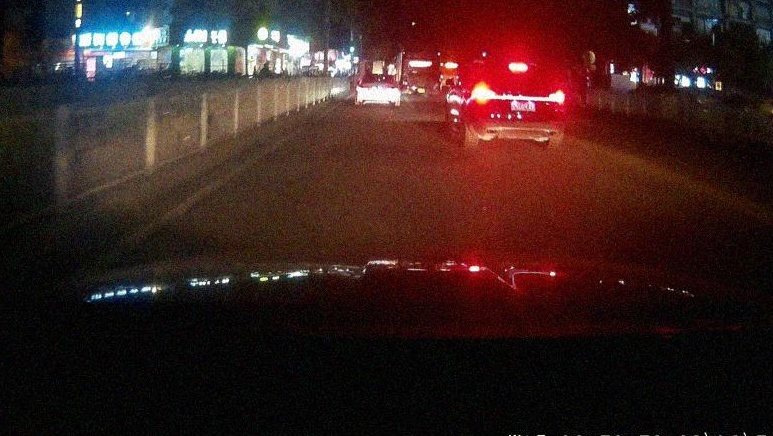L_light: (471, 82, 495, 105)
R_light: (549, 89, 565, 105)
T_light: (509, 62, 528, 73)
night-left: (469, 60, 566, 150)
